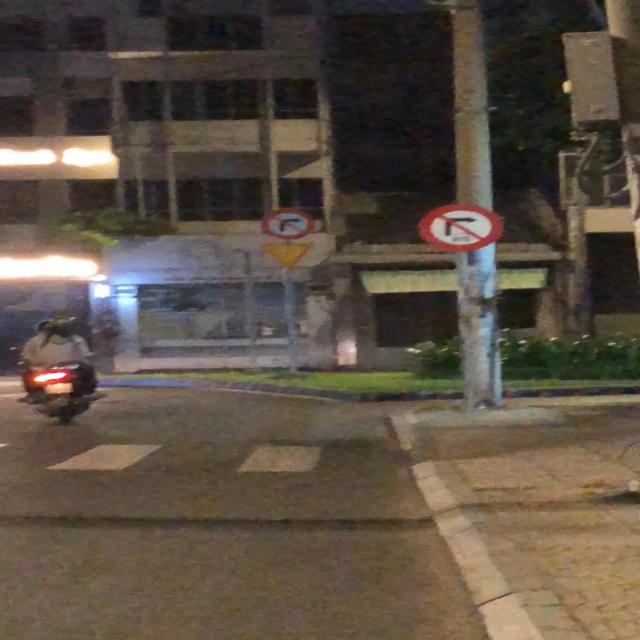Bien bao cam re phai: (255, 207, 320, 242)
Bien bao cam xe o to re phai: (412, 203, 504, 252)
Bien bao giao nhau voi duong uu tien: (256, 241, 318, 271)
